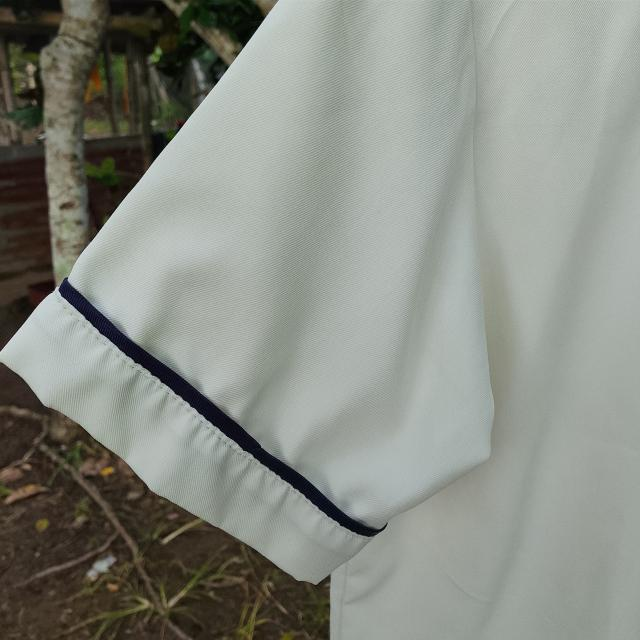education_male_uniform: (0, 0, 405, 624)
